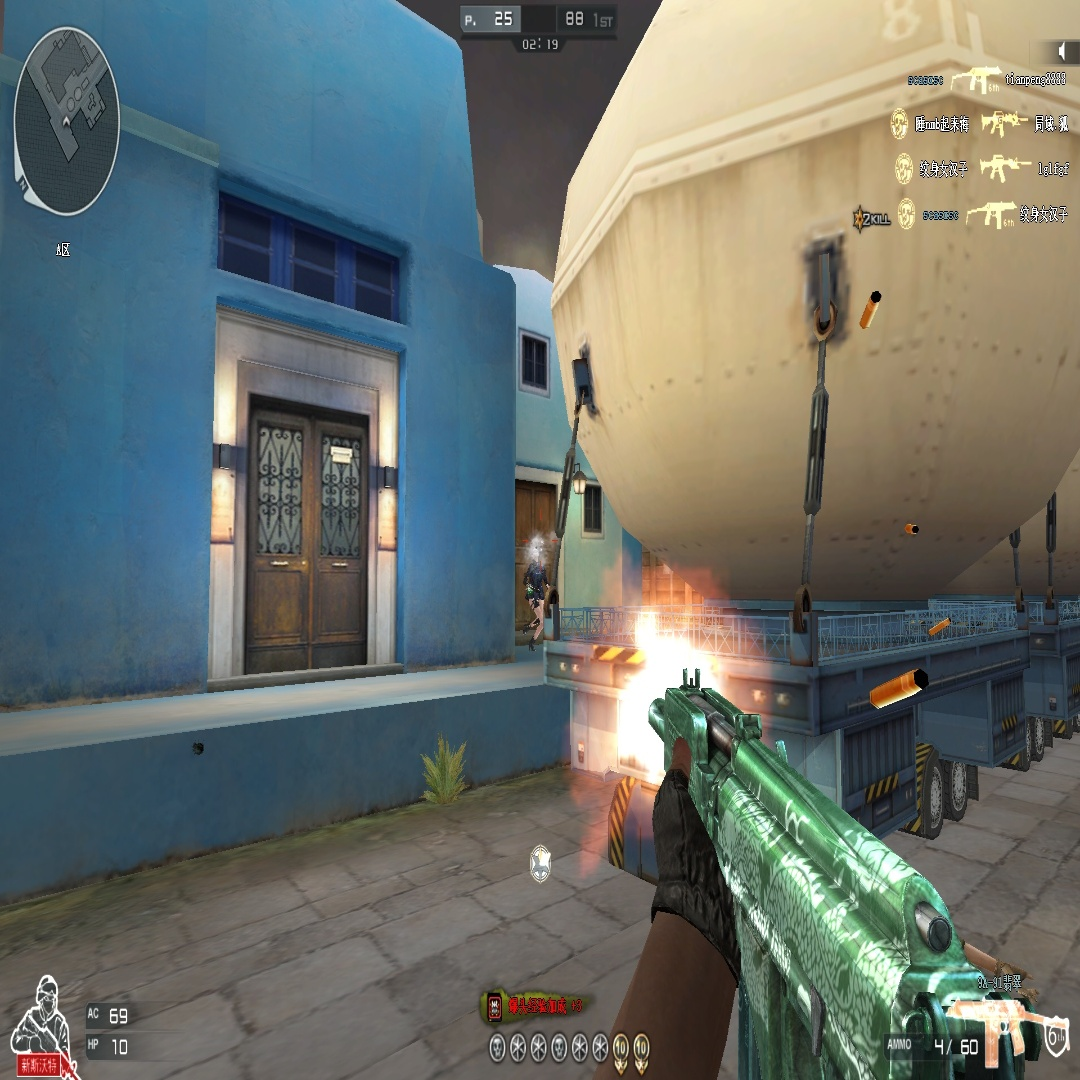p: (524, 547, 549, 647)
